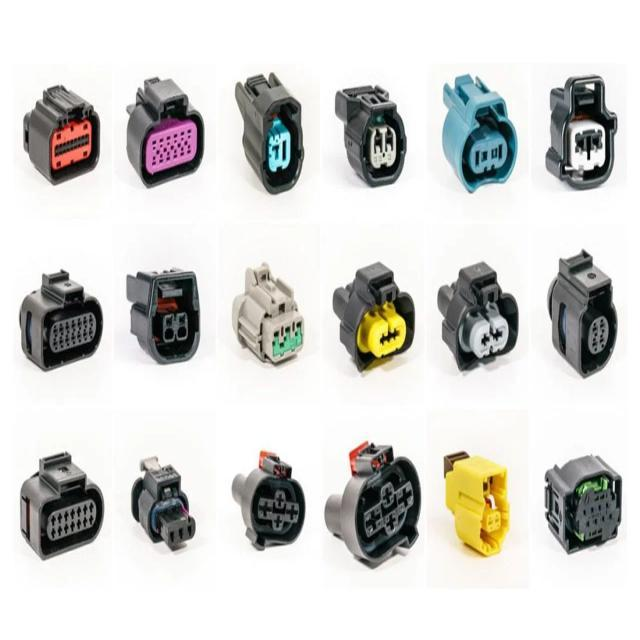connector: (311, 441, 451, 580), (312, 254, 433, 378), (416, 253, 535, 376), (422, 65, 530, 197), (5, 74, 117, 191), (212, 256, 316, 374), (230, 68, 315, 198), (542, 247, 620, 379), (225, 446, 314, 553), (16, 268, 105, 372), (117, 450, 201, 559), (331, 80, 413, 190), (545, 73, 619, 190), (127, 80, 203, 186), (545, 455, 621, 552), (126, 268, 201, 365), (443, 455, 510, 558)
